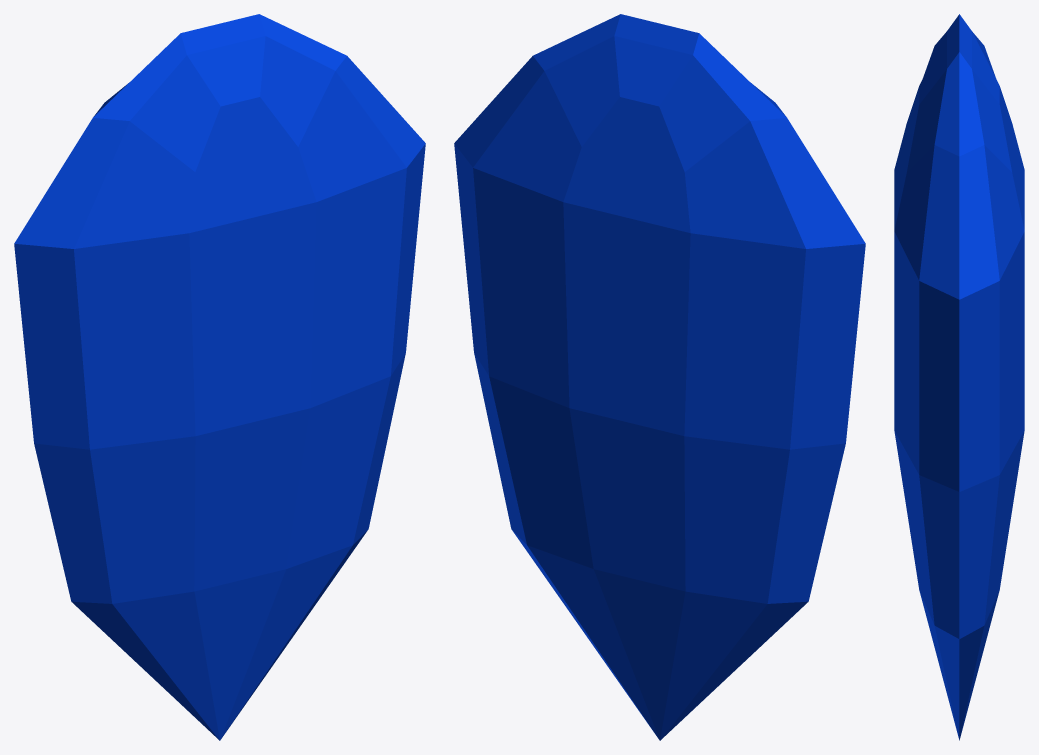
The model's file is Sapphire.fbx.
The picture shows the model from 3 angles, left to right: view 1: azimuth 30°, elevation 25°; view 2: azimuth 150°, elevation 25°; view 3: azimuth 270°, elevation 25°; orthographic projection.
Visible parts, largest first — view 1: Sapphire; view 2: Sapphire; view 3: Sapphire.
Boxes of the visible parts, bbox=[...] form: Sapphire: bbox=[14, 14, 425, 740]; Sapphire: bbox=[454, 14, 865, 740]; Sapphire: bbox=[894, 14, 1024, 740].
Bounding box in the file's own units: 1.63 × 2.71 × 0.4523.
